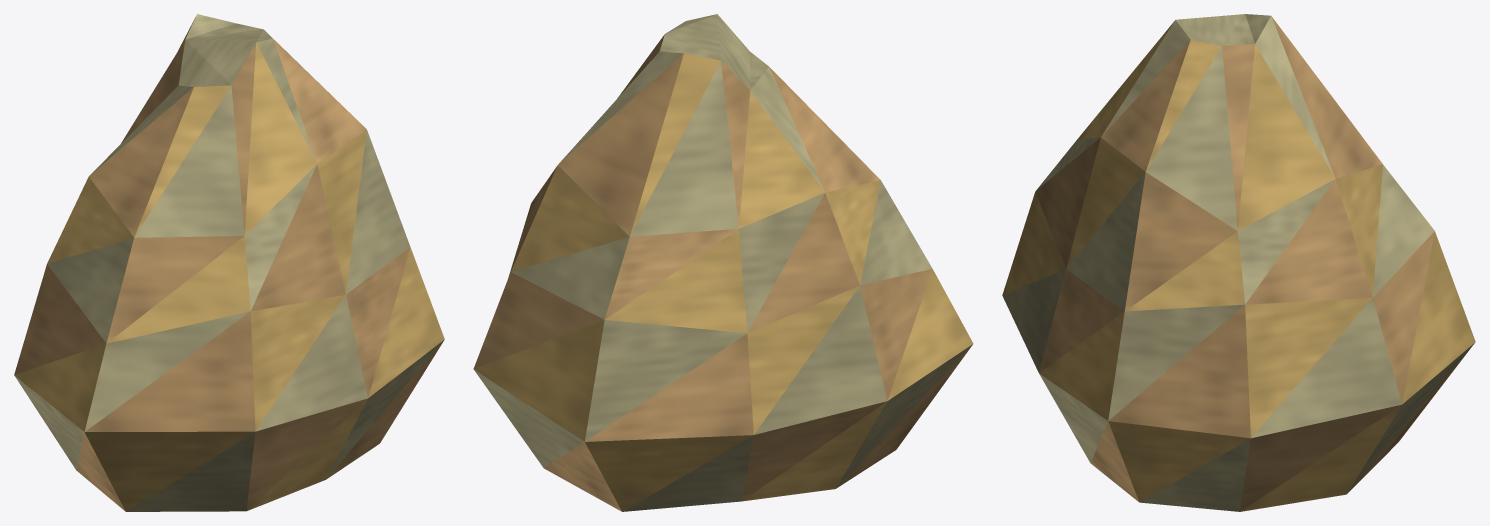
File: haystack.fbx
3 views of the same model, side by side, from view 1: azimuth 30°, elevation 25°; view 2: azimuth 150°, elevation 25°; view 3: azimuth 270°, elevation 25° (orthographic). The views are drawn at different scales.
Visible parts, largest first — view 1: haystack; view 2: haystack; view 3: haystack.
Boxes of the visible parts, box(x1,y1,x2,y2) form: haystack: box(14, 14, 444, 511); haystack: box(473, 14, 973, 511); haystack: box(1002, 14, 1475, 511).
Bounding box in the file's own units: 250 × 250 × 250.
1 material, 1 textured.
